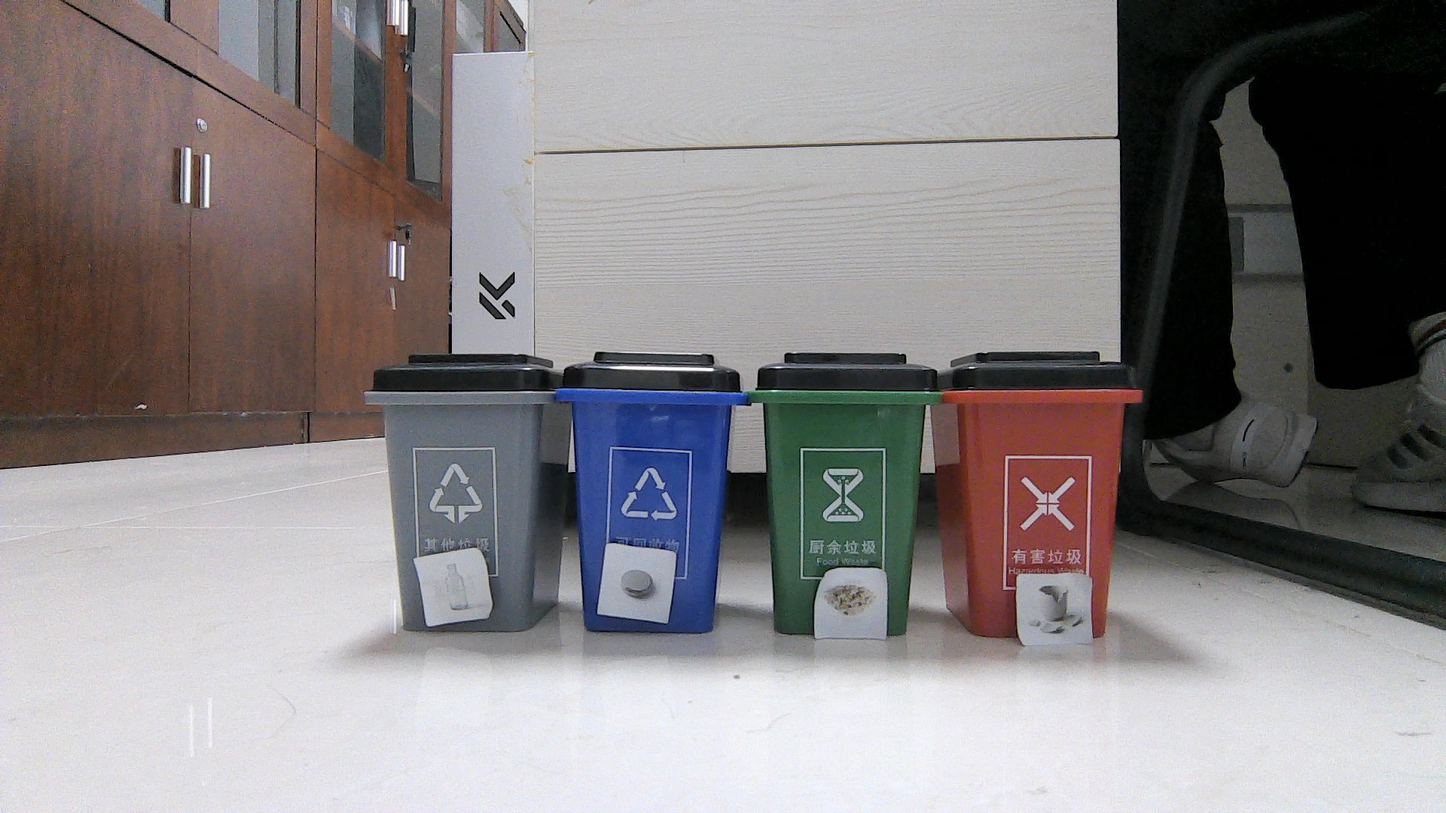food_trash: (819, 571, 882, 632)
hazardous_trash: (609, 549, 667, 615)
other_trash: (1021, 576, 1089, 644)
recyclable_trash: (424, 553, 483, 619)
